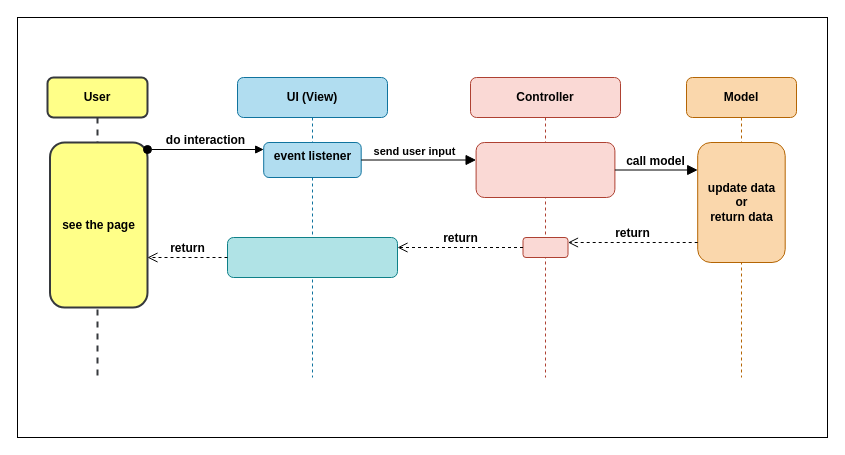
Some shapes in this 845 by 455 pixel diagram are drawn without their labels. Each missing label, with the centre of its shape:
"arrange call model and/or view" belongs at point (545, 170).
"regenerate dom from zero" belongs at point (312, 257).
"render" belongs at point (545, 247).
